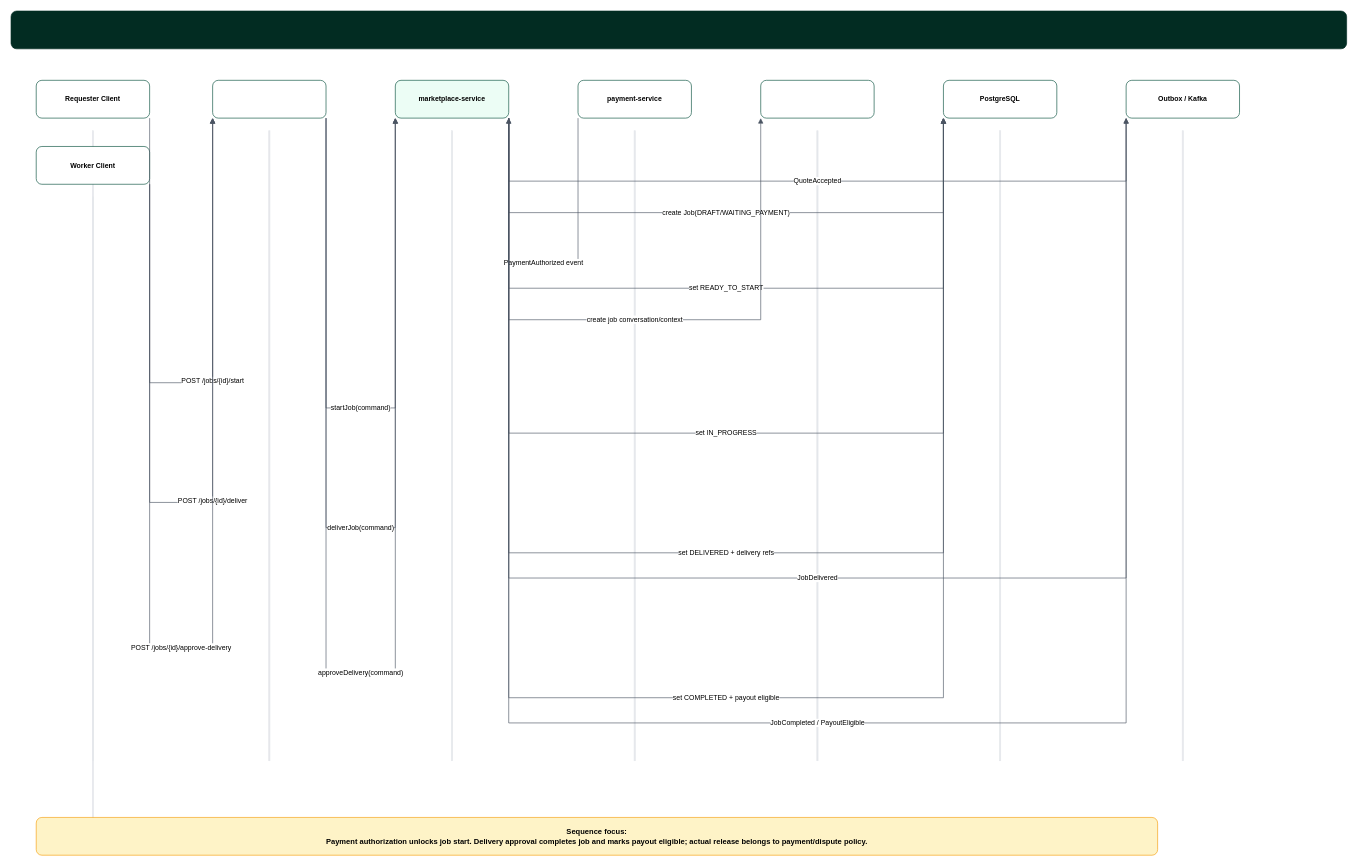
Image size: 1358x866. Some labels were removed from this diagram. Here are the shapes that lost their labels. From the top down, the centre of each, then its label:
[678,29]: Viaverse Job Lifecycle / Delivery Approval — Sequence Diagram
[269,99]: API Gateway / App BFF
[817,99]: messaging-service
